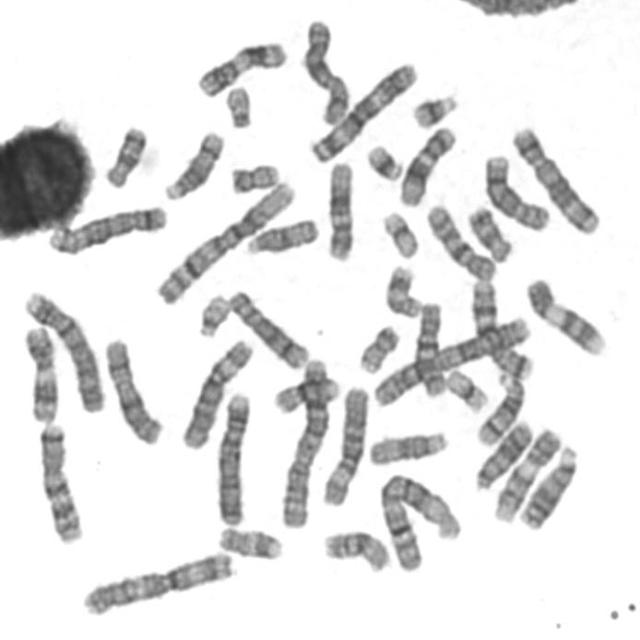A1: (150, 175, 300, 308), (373, 467, 464, 574)
A2: (368, 312, 534, 409), (276, 354, 334, 532)
A3: (304, 56, 420, 165), (77, 546, 238, 619)
B4: (19, 285, 107, 416), (212, 388, 254, 528)
B5: (507, 122, 602, 237), (43, 200, 169, 257)
C10: (421, 200, 499, 284), (412, 295, 449, 400)
C11: (192, 36, 290, 100), (18, 321, 61, 426)
C12: (395, 122, 458, 208), (322, 157, 357, 263)
C6: (178, 334, 255, 451), (317, 380, 371, 508)
C7: (466, 275, 536, 381), (33, 418, 86, 546)
C8: (224, 286, 311, 372), (479, 149, 554, 233)
C9: (521, 272, 609, 358), (490, 424, 564, 525)
D13: (514, 442, 580, 532), (471, 415, 536, 493)
D14: (159, 126, 226, 202), (473, 370, 528, 448)
D15: (241, 212, 321, 258), (364, 426, 450, 467)
E16: (319, 525, 392, 575), (269, 371, 343, 416)
E17: (214, 522, 285, 563), (381, 261, 425, 320)
E18: (98, 120, 148, 190), (463, 202, 515, 264)
F19: (440, 364, 490, 415), (377, 205, 422, 261)
F20: (354, 320, 402, 375), (226, 158, 282, 195)
G21: (408, 89, 460, 130), (362, 140, 406, 184)
G22: (194, 289, 232, 340), (221, 82, 254, 130)
X: (100, 333, 165, 447), (299, 13, 353, 126)
